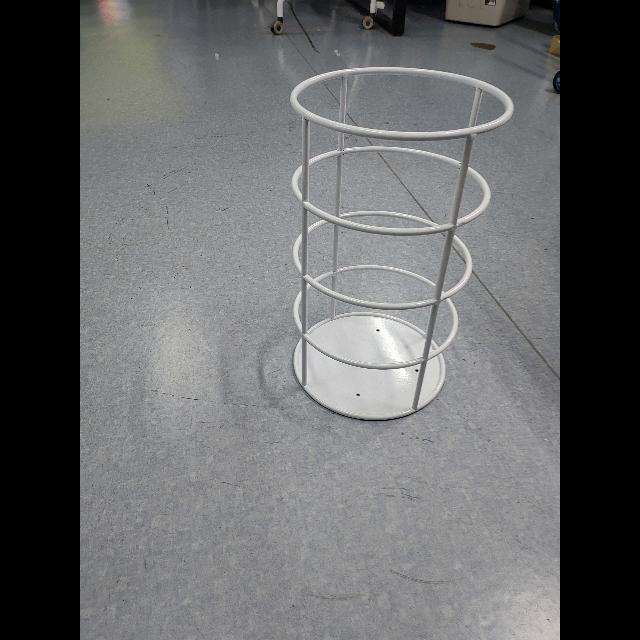S: (282, 62, 518, 426)
